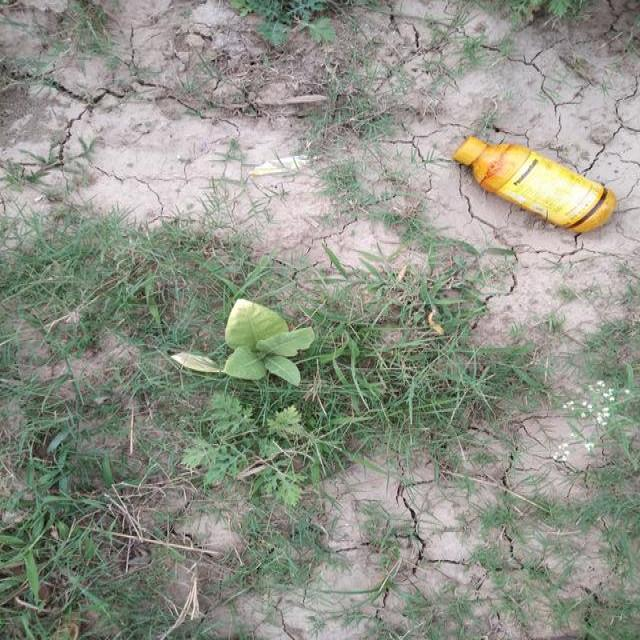crop: (198, 283, 322, 393)
